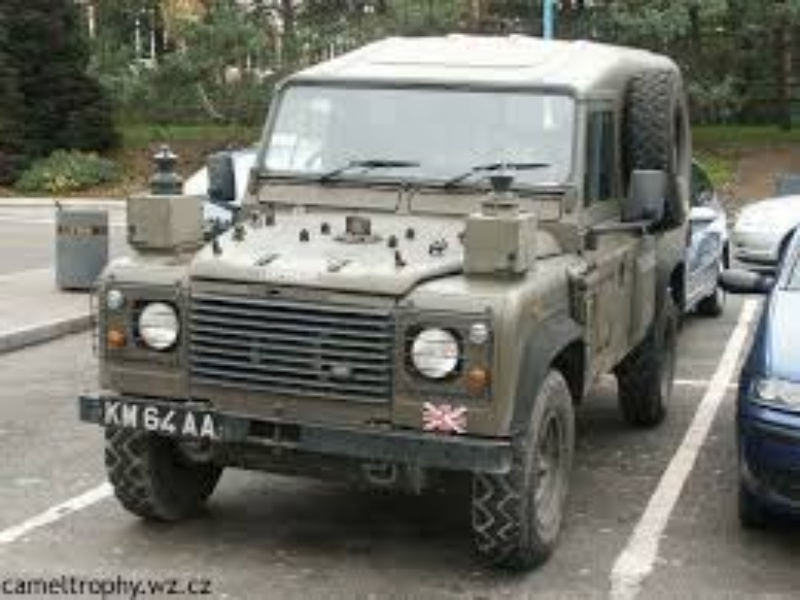jeep: (79, 32, 691, 571)
